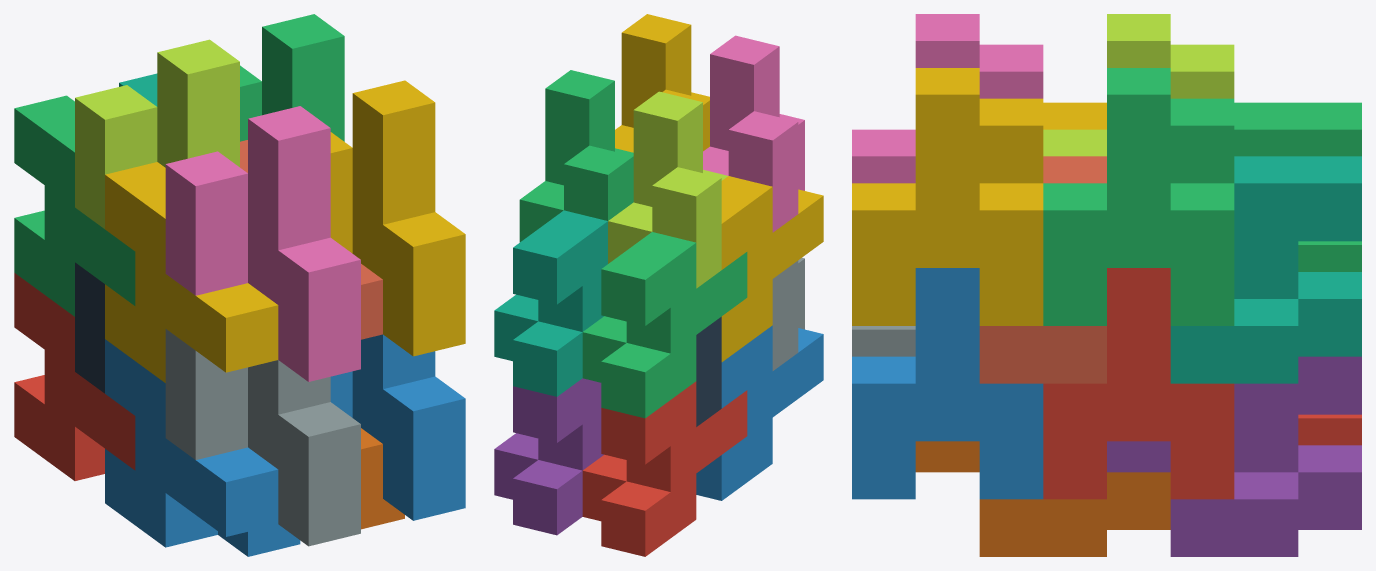
The model's file is tiling.obj.
3 renders of one model, left to right at view 1: azimuth 30°, elevation 25°; view 2: azimuth 150°, elevation 25°; view 3: azimuth 270°, elevation 25°, orthographic. The views are drawn at different scales.
Parts seen in each view (by area): view 1: copy_2_domain_4, copy_2_domain_8, copy_2_domain_2, copy_1_domain_2, copy_1_domain_4, copy_2_domain_3, copy_2_domain_6, copy_1_domain_3, copy_1_domain_1, copy_2_domain_7, copy_2_domain_1, copy_1_domain_6 (+2 smaller); view 2: copy_1_domain_3, copy_1_domain_1, copy_1_domain_7, copy_2_domain_3, copy_2_domain_4, copy_1_domain_5, copy_2_domain_7, copy_1_domain_4, copy_1_domain_2, copy_2_domain_8, copy_2_domain_2, copy_2_domain_1; view 3: copy_2_domain_8, copy_2_domain_7, copy_1_domain_7, copy_2_domain_6, copy_1_domain_5, copy_2_domain_5, copy_1_domain_6, copy_2_domain_4, copy_1_domain_8, copy_1_domain_3, copy_2_domain_3, copy_1_domain_1 (+2 smaller).
Part boxes in pixels (bbox=[...]): copy_2_domain_4: bbox=[165, 106, 360, 381]; copy_2_domain_8: bbox=[330, 80, 465, 356]; copy_2_domain_2: bbox=[165, 329, 360, 546]; copy_1_domain_2: bbox=[105, 339, 300, 556]; copy_1_domain_4: bbox=[105, 162, 278, 382]; copy_2_domain_3: bbox=[75, 39, 239, 228]; copy_2_domain_6: bbox=[330, 334, 465, 520]; copy_1_domain_3: bbox=[14, 95, 135, 316]; copy_1_domain_1: bbox=[14, 273, 135, 480]; copy_2_domain_7: bbox=[240, 14, 344, 141]; copy_2_domain_1: bbox=[75, 262, 104, 393]; copy_1_domain_6: bbox=[361, 428, 404, 529]; copy_1_domain_3: bbox=[582, 232, 747, 418]; copy_1_domain_1: bbox=[582, 381, 747, 556]; copy_1_domain_7: bbox=[494, 210, 607, 396]; copy_2_domain_3: bbox=[608, 91, 727, 288]; copy_2_domain_4: bbox=[703, 35, 804, 232]; copy_1_domain_5: bbox=[494, 378, 603, 535]; copy_2_domain_7: bbox=[519, 70, 633, 242]; copy_1_domain_4: bbox=[721, 176, 823, 361]; copy_1_domain_2: bbox=[696, 325, 823, 500]; copy_2_domain_8: bbox=[615, 14, 709, 152]; copy_2_domain_2: bbox=[772, 258, 804, 370]; copy_2_domain_1: bbox=[696, 316, 721, 426]; copy_2_domain_8: bbox=[852, 68, 1043, 325]; copy_2_domain_7: bbox=[1043, 68, 1234, 325]; copy_1_domain_7: bbox=[1170, 156, 1361, 383]; copy_2_domain_6: bbox=[852, 268, 1043, 499]; copy_1_domain_5: bbox=[1107, 356, 1361, 556]; copy_2_domain_5: bbox=[1043, 268, 1234, 499]; copy_1_domain_6: bbox=[915, 441, 1170, 556]; copy_2_domain_4: bbox=[852, 14, 1043, 183]; copy_1_domain_8: bbox=[979, 156, 1106, 383]; copy_1_domain_3: bbox=[1234, 102, 1361, 271]; copy_2_domain_3: bbox=[1043, 14, 1234, 156]; copy_1_domain_1: bbox=[1298, 414, 1361, 445].
Size of the model in its own units: 4 by 8 by 8.
